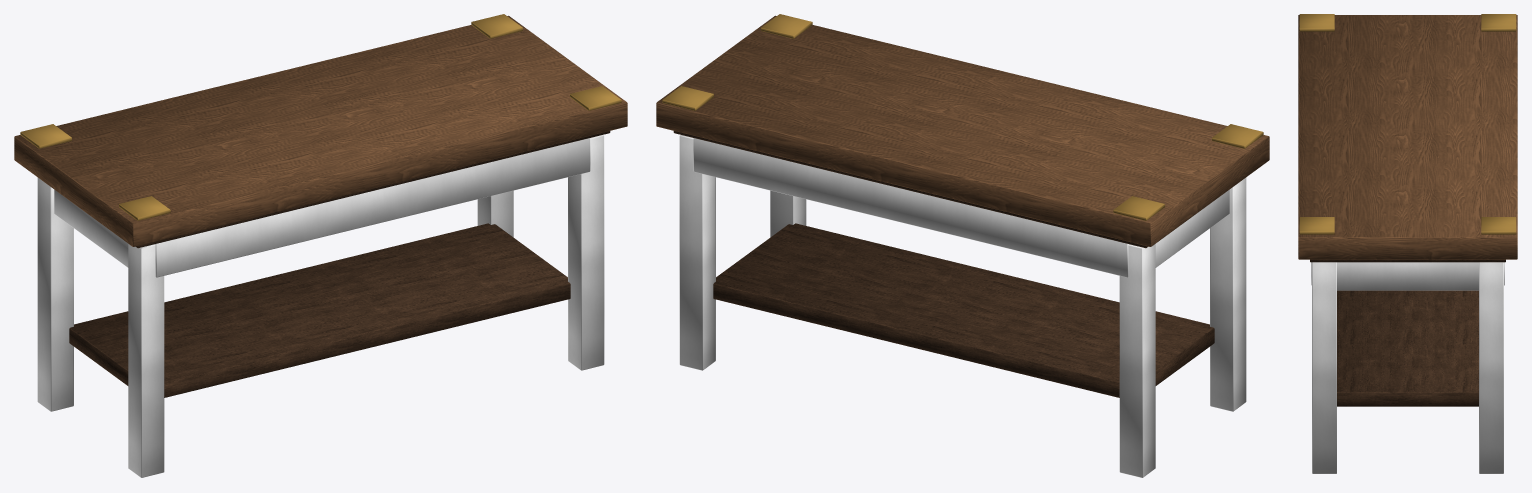
Rendered from asset_065_armI.glb.
3 renders of one model, left to right at view 1: azimuth 30°, elevation 25°; view 2: azimuth 150°, elevation 25°; view 3: azimuth 270°, elevation 25°, orthographic. The views are drawn at different scales.
Visible parts, largest first — view 1: MESH_OakWorktop, MESH_LowerShelf, MESH_WorktableLegSet, MESH_WorktableApronFrame, MESH_WorktableCornerCapSet, MESH_WorktopDarkEdge; view 2: MESH_OakWorktop, MESH_LowerShelf, MESH_WorktableLegSet, MESH_WorktableApronFrame, MESH_WorktableCornerCapSet, MESH_WorktopDarkEdge; view 3: MESH_OakWorktop, MESH_LowerShelf, MESH_WorktableLegSet, MESH_WorktableApronFrame, MESH_WorktableCornerCapSet, MESH_WorktopDarkEdge.
Part boxes in pixels (x1,y1,x2,y2): MESH_OakWorktop: (14,15,627,246); MESH_LowerShelf: (69,223,570,397); MESH_WorktableLegSet: (37,135,604,477); MESH_WorktableApronFrame: (54,138,590,277); MESH_WorktableCornerCapSet: (20,14,621,220); MESH_WorktopDarkEdge: (136,131,610,248); MESH_OakWorktop: (656,15,1269,246); MESH_LowerShelf: (713,223,1214,397); MESH_WorktableLegSet: (679,135,1246,477); MESH_WorktableApronFrame: (693,138,1229,277); MESH_WorktableCornerCapSet: (662,14,1263,220); MESH_WorktopDarkEdge: (673,131,1147,248); MESH_OakWorktop: (1298,15,1517,259); MESH_LowerShelf: (1337,290,1478,406); MESH_WorktableLegSet: (1312,262,1503,473); MESH_WorktableApronFrame: (1311,262,1504,290); MESH_WorktableCornerCapSet: (1299,14,1516,234); MESH_WorktopDarkEdge: (1310,259,1505,262).
Bounding box in the file's own units: 1.8 × 0.932 × 0.75.
5 materials, 4 textured.
